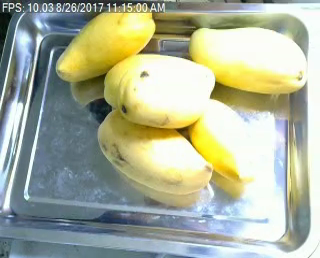Mango: (97, 106, 214, 197), (186, 26, 308, 93), (56, 3, 157, 79), (185, 98, 258, 184), (119, 61, 210, 129), (102, 52, 215, 105)
